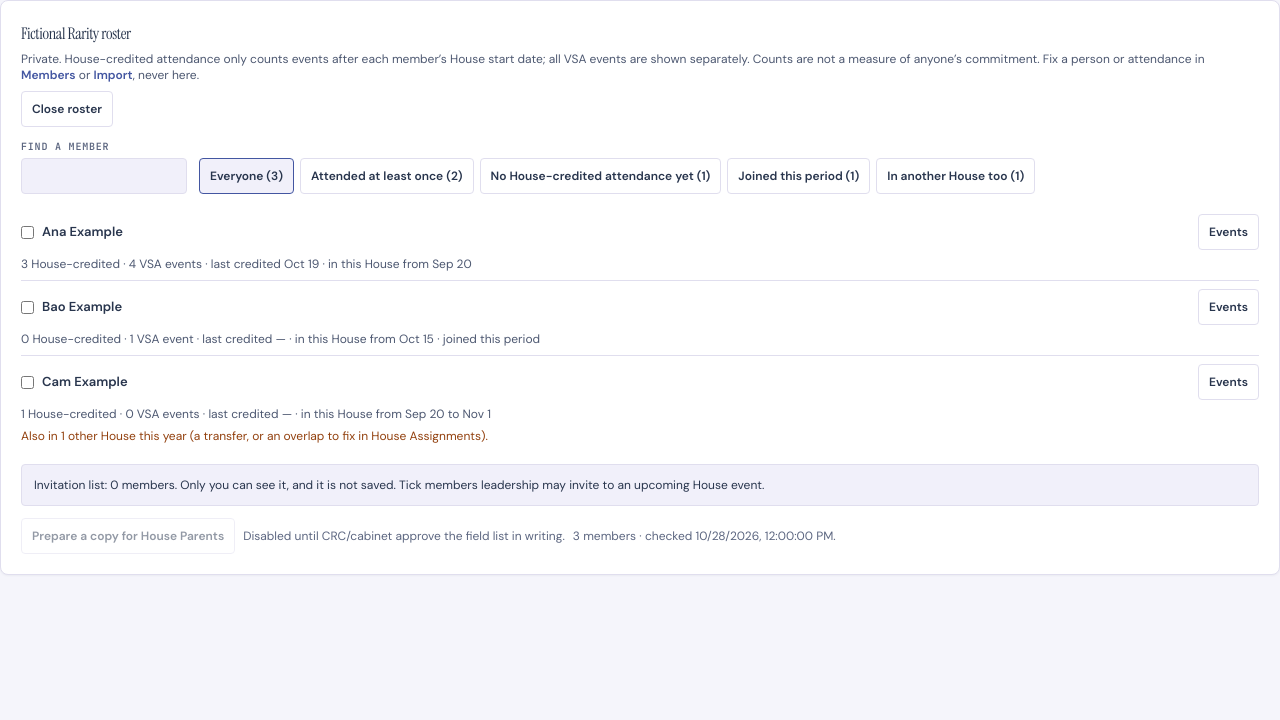
Test: explains per event why attendance did or did not count
This screenshot has width=1280, height=720.
Click the button named "Events for Bao Example". click: (1228, 307)
box: [1198,289,1259,325]
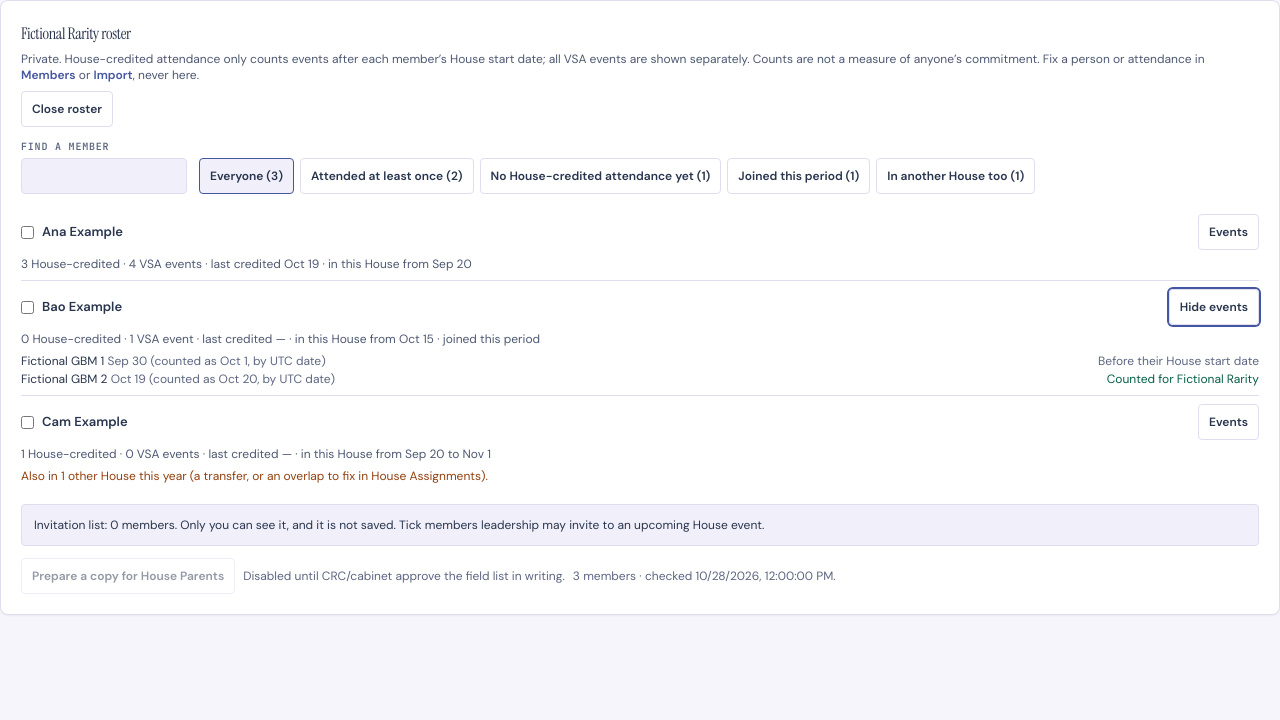
Now the text "Before their House start date" is shown, box [1098,353,1259,369]
Now the text "Counted for Fictional Rarity" is shown, box [1107,371,1259,387]
